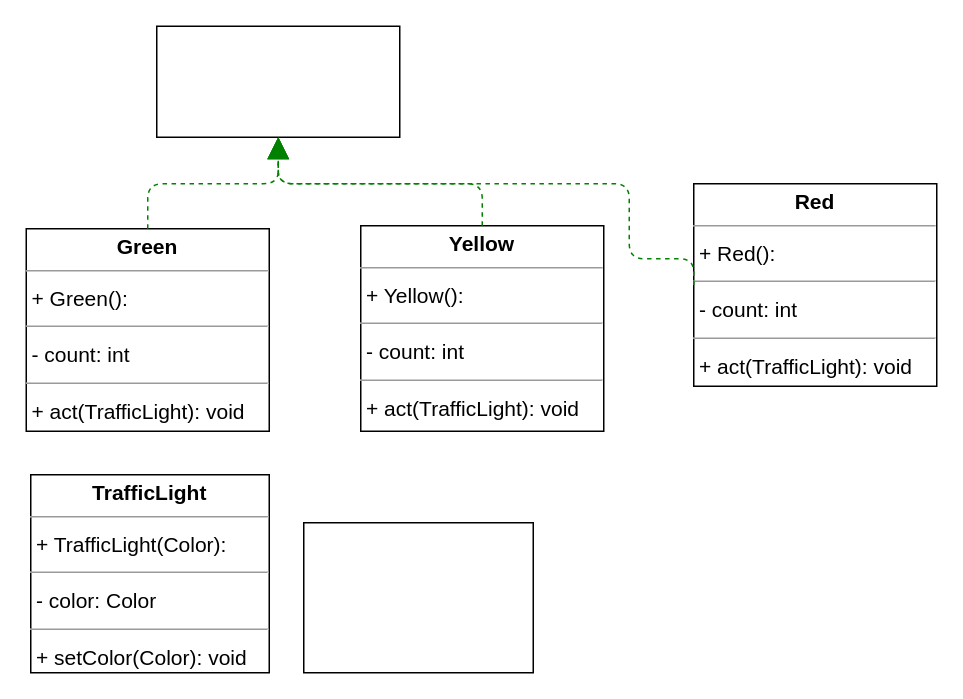
The diagram is 963 pixels wide and 699 high, and some of its shapes have lost their labels. The shapes that lost their labels are listed below. From the top down, each one's centre as x and y in pixels, then its label:
(x=277, y=81): <<interface>> Color + act(TrafficLight): void
(x=417, y=597): Main + Main(): + main(String[]): void
